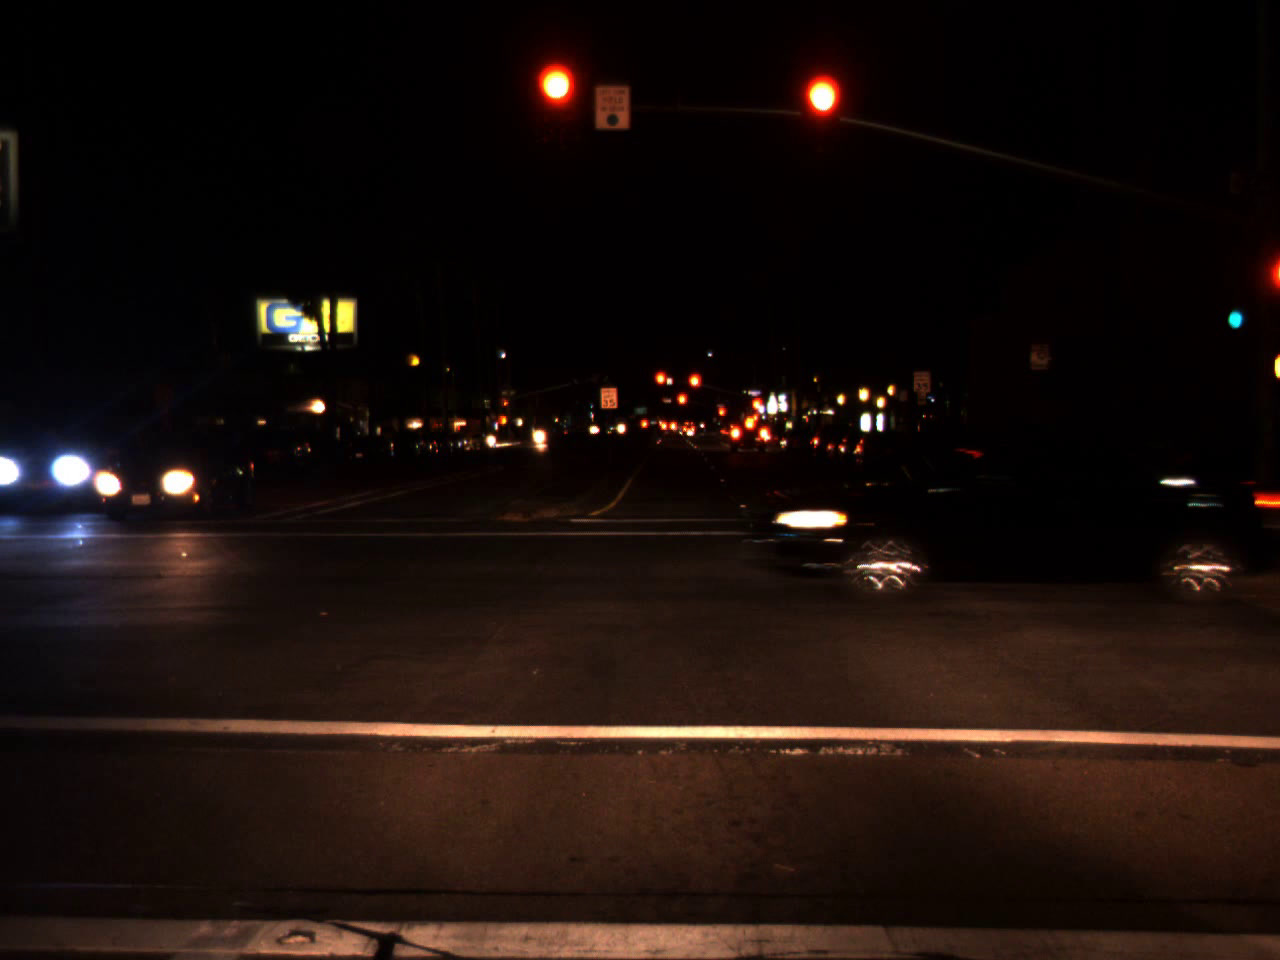stop: (537, 65, 577, 143), (801, 75, 841, 153), (653, 369, 671, 401), (686, 371, 702, 403), (750, 397, 763, 424), (676, 391, 688, 418), (717, 406, 727, 427), (502, 400, 508, 410)
